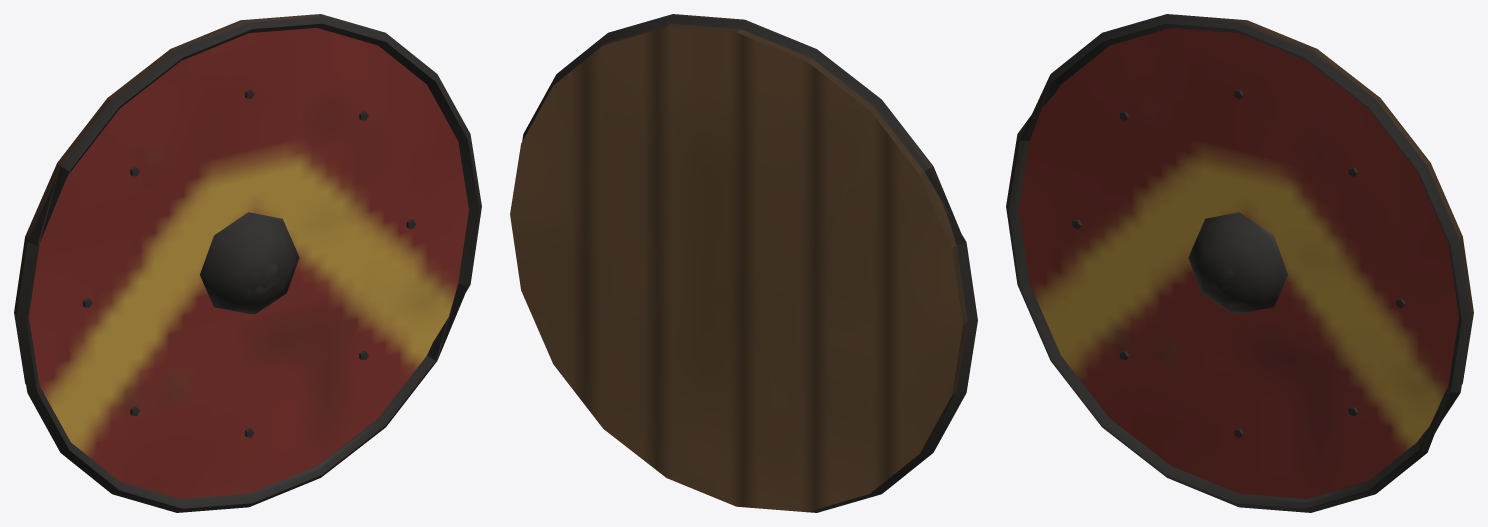
Rendered from round_shield.obj.
The picture shows the model from 3 angles, left to right: view 1: azimuth 30°, elevation 25°; view 2: azimuth 150°, elevation 25°; view 3: azimuth 330°, elevation 25°; orthographic projection.
Parts seen in each view (by area): view 1: round_shield; view 2: round_shield; view 3: round_shield.
Part boxes in pixels (x1,y1,x2,y2): round_shield: (14, 14, 481, 512); round_shield: (510, 14, 977, 512); round_shield: (1006, 14, 1473, 512).
Bounding box in the file's own units: 0.864 × 0.864 × 0.085.
1 material, 1 textured.
